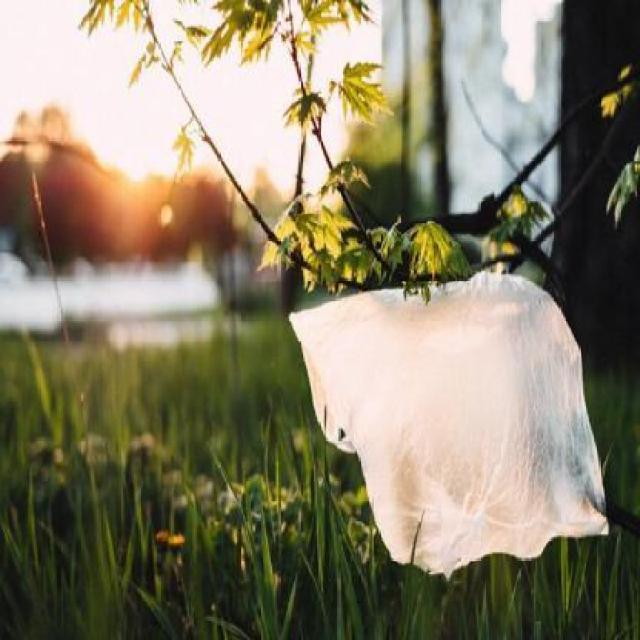plastic bag: (278, 260, 618, 578)
